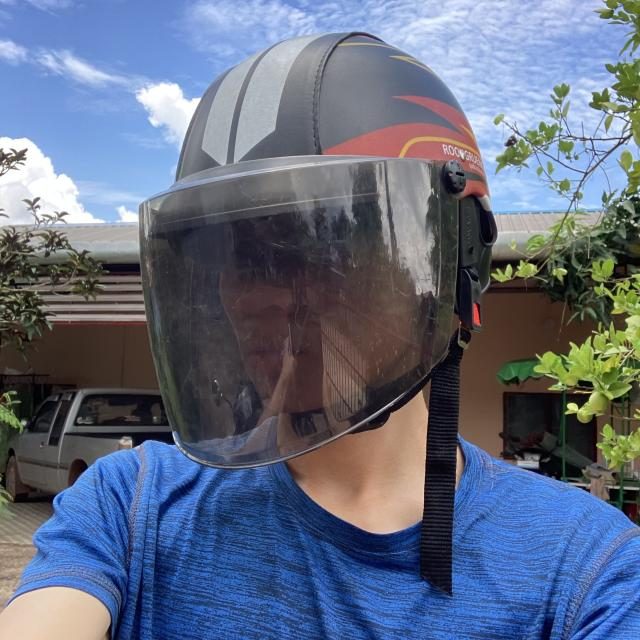helmet: (125, 24, 502, 483)
